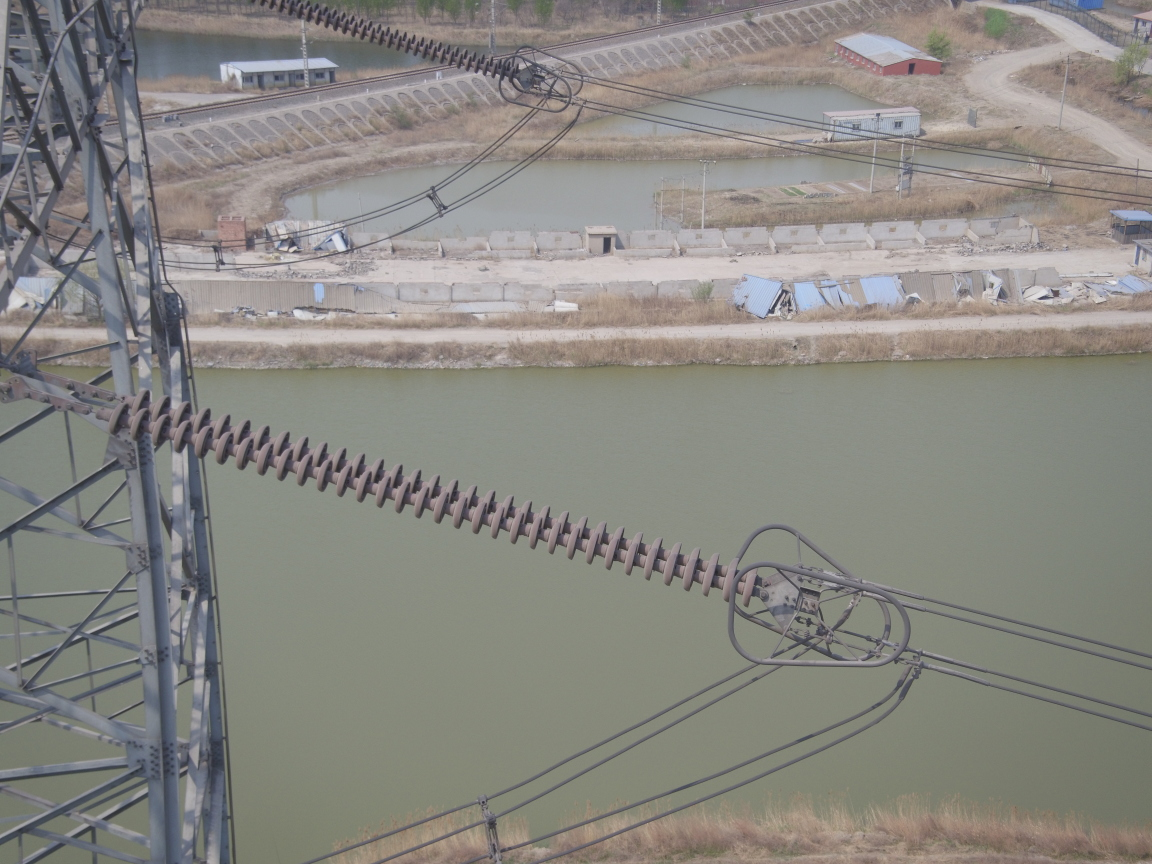insulator: (69, 378, 783, 612), (251, 1, 527, 86)
